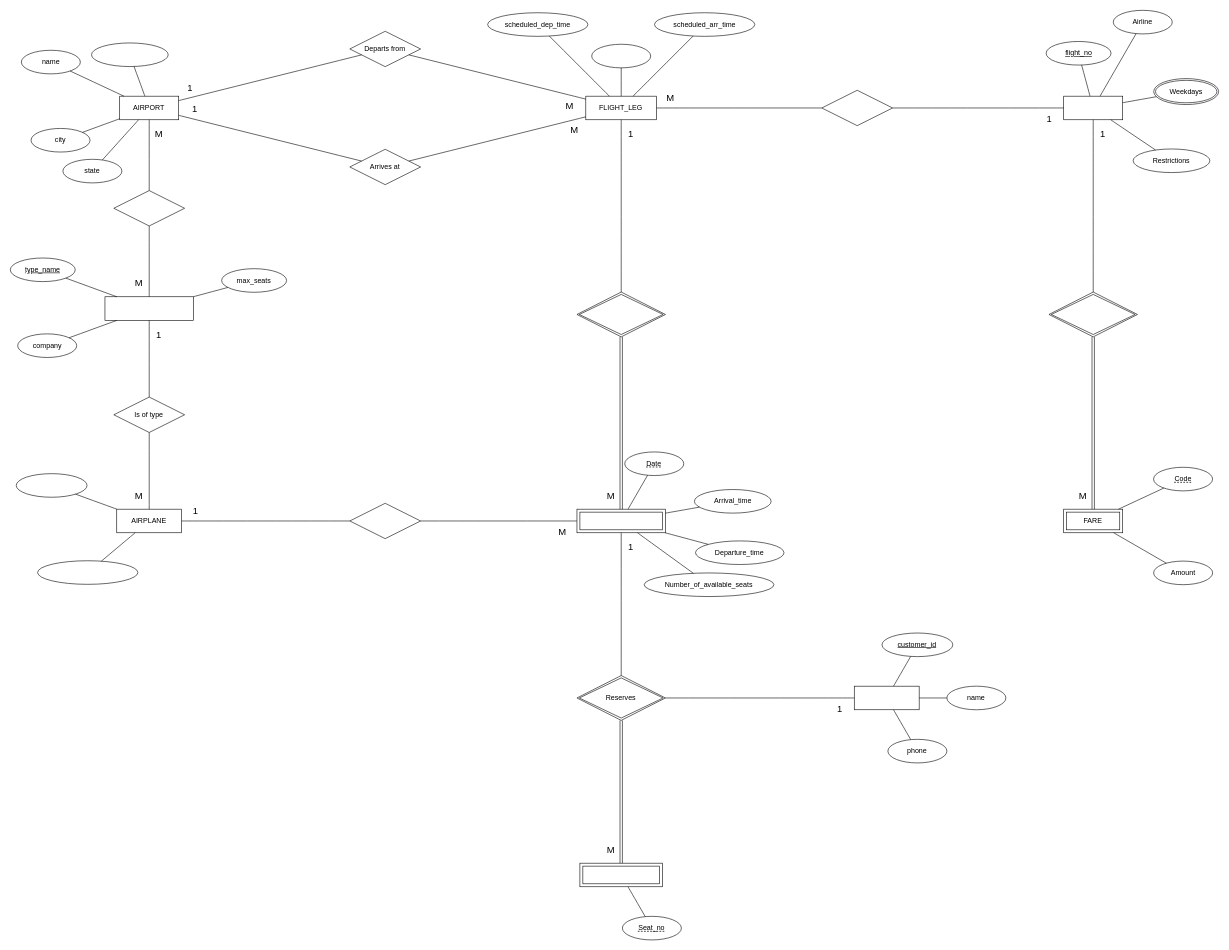
The diagram is 1229 pixels wide and 950 high, and some of its shapes have lost their labels. Each missing label, with the box of its shape:
airplane_id: (16, 473, 87, 497)
AIRPLANE_TYPE: (104, 296, 193, 320)
airport_code: (91, 42, 168, 67)
Assigned to: (349, 503, 421, 539)
Can land: (113, 190, 185, 226)
CUSTOMER: (854, 686, 919, 710)
FLIGHT: (1063, 96, 1123, 120)
Has fare: (1048, 291, 1137, 337)
Includes: (821, 90, 893, 126)
Instance of: (576, 291, 665, 337)
LEG_INSTANCE: (576, 509, 665, 533)
leg_no: (591, 44, 651, 68)
RESERVATION: (579, 863, 663, 887)
total_no_of_seats: (37, 560, 138, 584)
